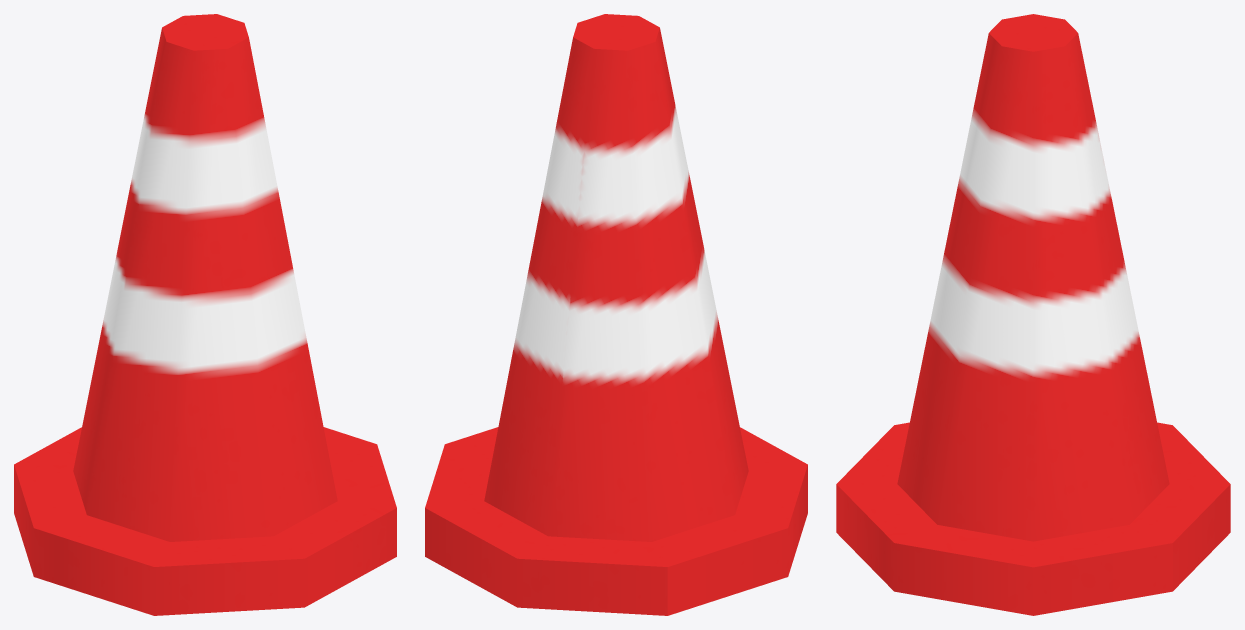
The model's file is TrafficCone.glb.
3 renders of one model, left to right at view 1: azimuth 30°, elevation 25°; view 2: azimuth 150°, elevation 25°; view 3: azimuth 270°, elevation 25°, orthographic.
Parts seen in each view (by area): view 1: traffic_cone; view 2: traffic_cone; view 3: traffic_cone.
Part boxes in pixels (x1=…): traffic_cone: x1=14, y1=14, x2=396, y2=615; traffic_cone: x1=425, y1=14, x2=807, y2=615; traffic_cone: x1=836, y1=14, x2=1230, y2=615.
Bounding box in the file's own units: 0.2544 × 0.356 × 0.2544.
1 material, 1 textured.
